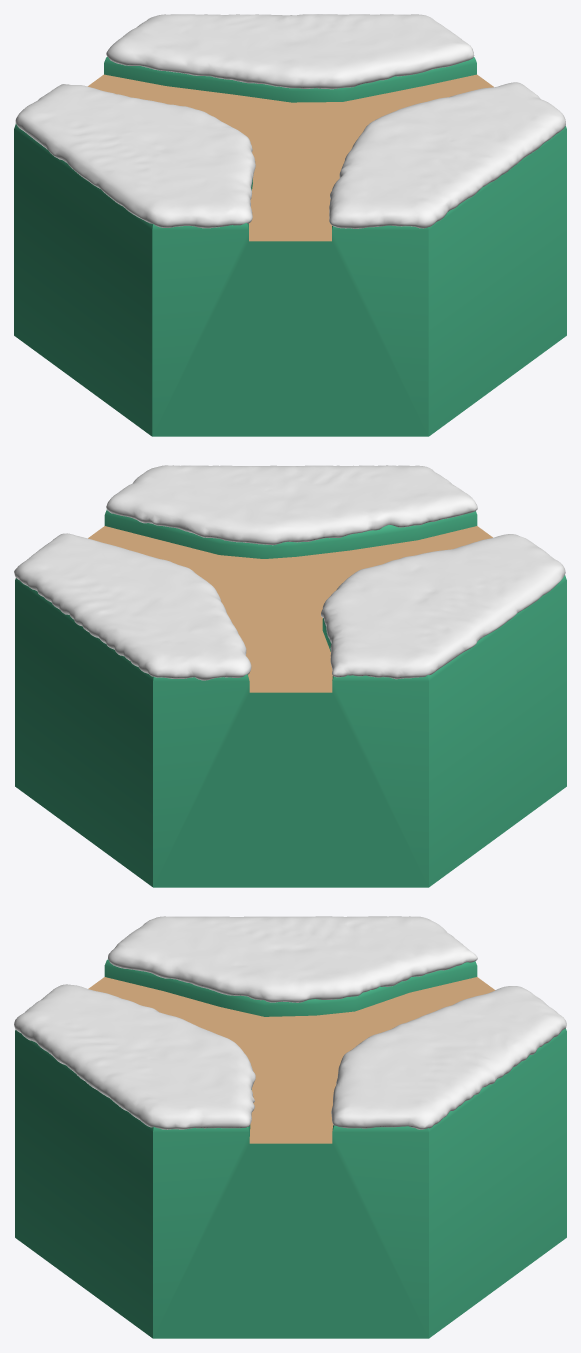
The model's file is snow_hex_forest_roadG.fbx.
3 renders of one model, top to bottom at view 1: azimuth 30°, elevation 25°; view 2: azimuth 150°, elevation 25°; view 3: azimuth 270°, elevation 25°, orthographic.
Visible parts, largest first — view 1: hex_forest_roadG.001, SnowBall.001, hex_forest_roadG; view 2: hex_forest_roadG.001, SnowBall.001, hex_forest_roadG; view 3: hex_forest_roadG.001, SnowBall.001, hex_forest_roadG.
Boxes of the visible parts, box(x1,y1,x2,y2) form: hex_forest_roadG.001: box(14, 57, 566, 436); SnowBall.001: box(15, 14, 565, 228); hex_forest_roadG: box(87, 74, 493, 241); hex_forest_roadG.001: box(15, 509, 566, 887); SnowBall.001: box(14, 465, 565, 680); hex_forest_roadG: box(88, 526, 492, 692); hex_forest_roadG.001: box(15, 959, 566, 1338); SnowBall.001: box(14, 916, 566, 1129); hex_forest_roadG: box(88, 977, 494, 1143).
Size of the model in its own units: 203 by 104 by 231.
